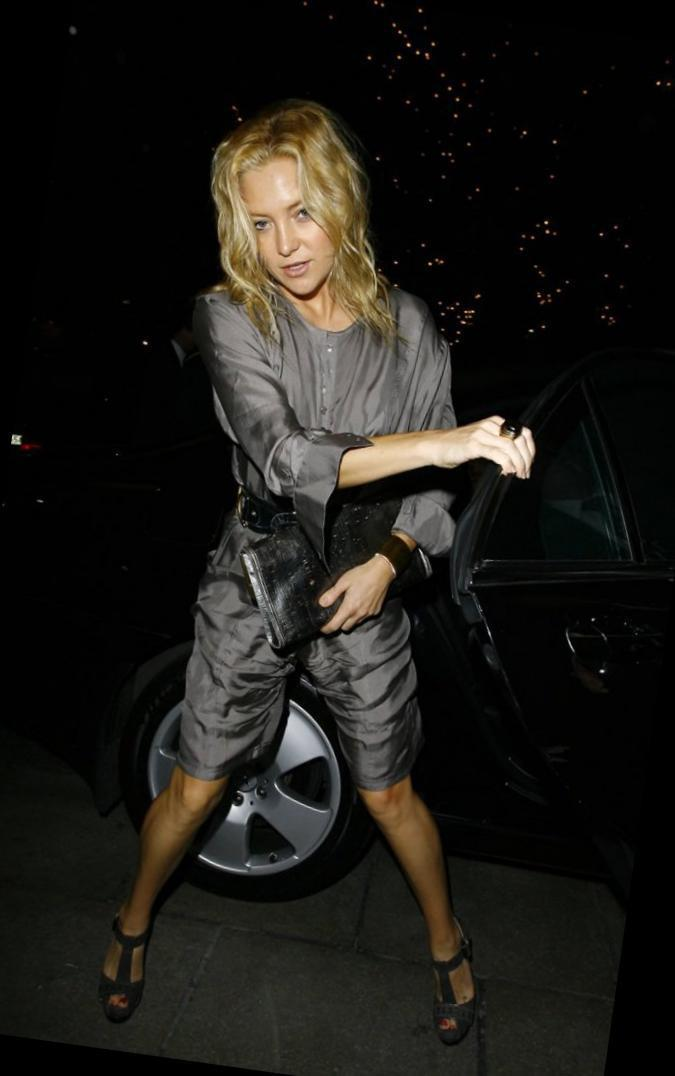Drunk: (243, 151, 328, 284)
